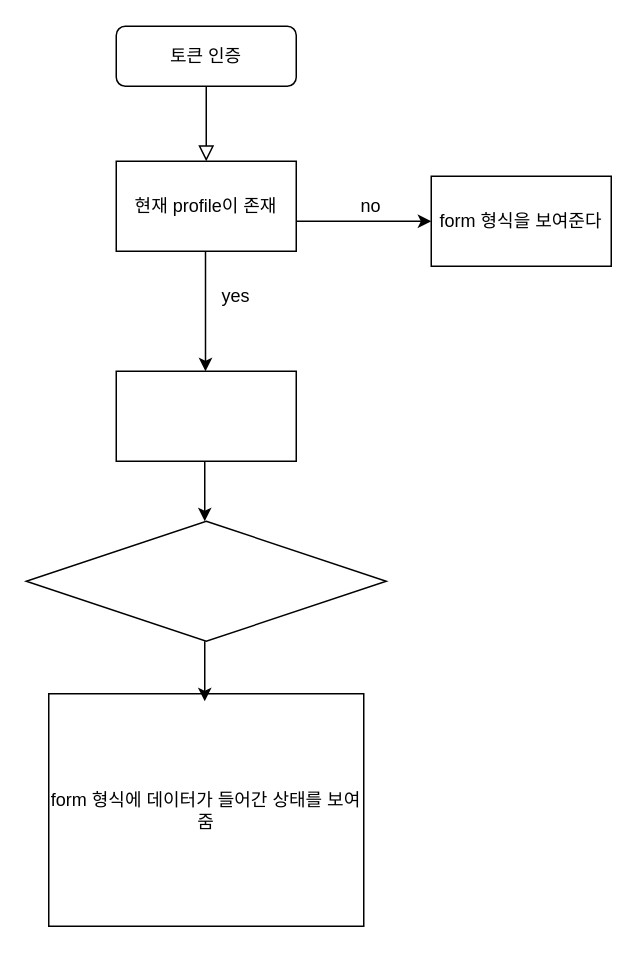
This 638x953 diagram has some shape labels left out. Each missing label, with the box of its shape:
form이 아닌 화면을 보여준다.: (115, 370, 296, 461)
수정 버튼을 누른다: (25, 520, 386, 641)
